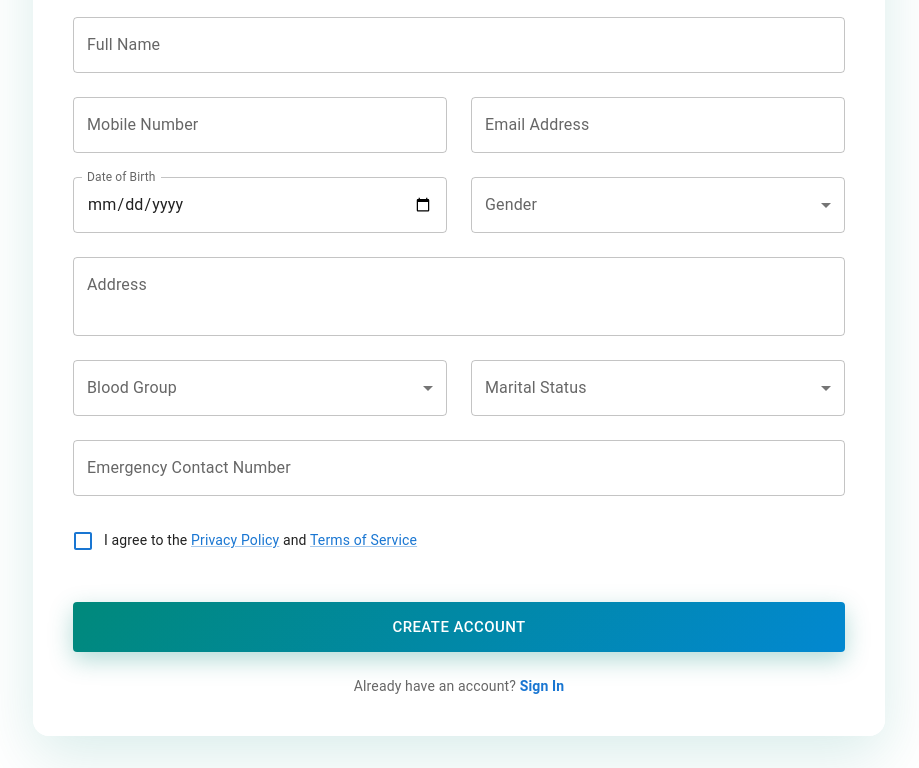
RegistrationScreen Component › Emergency Contact Validation › shows error for invalid emergency contact format
(page scrolled)
Step 1. Type "12345" into the field labelled "Emergency Contact Number" → (459, 468), box [73,440,845,496]
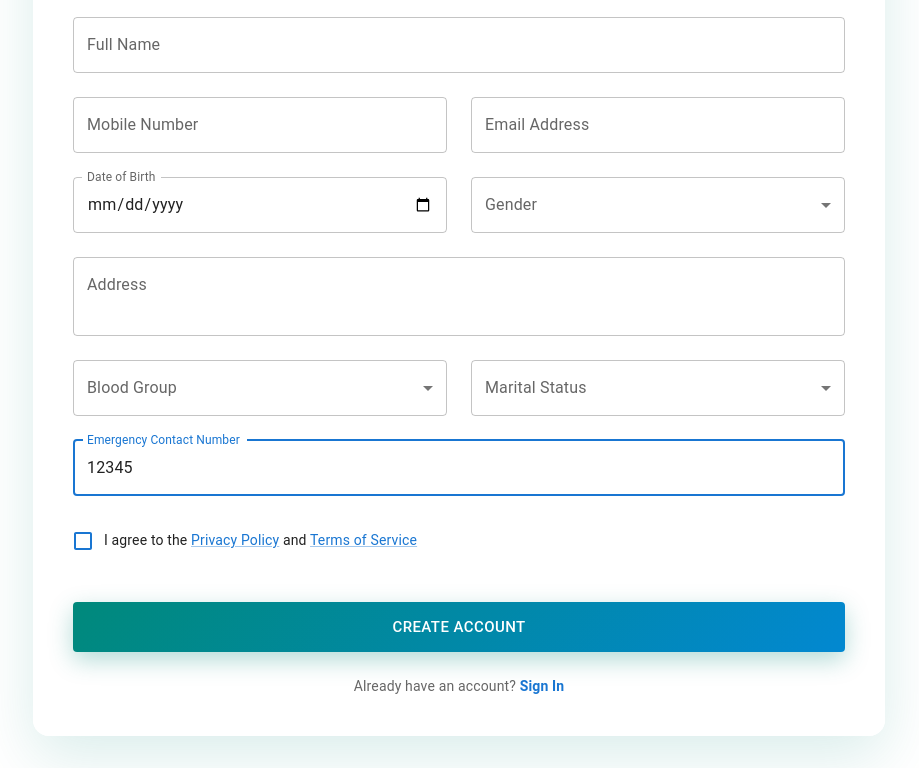
Step 2. Leave the field labelled "Emergency Contact Number", box [73,440,845,496]
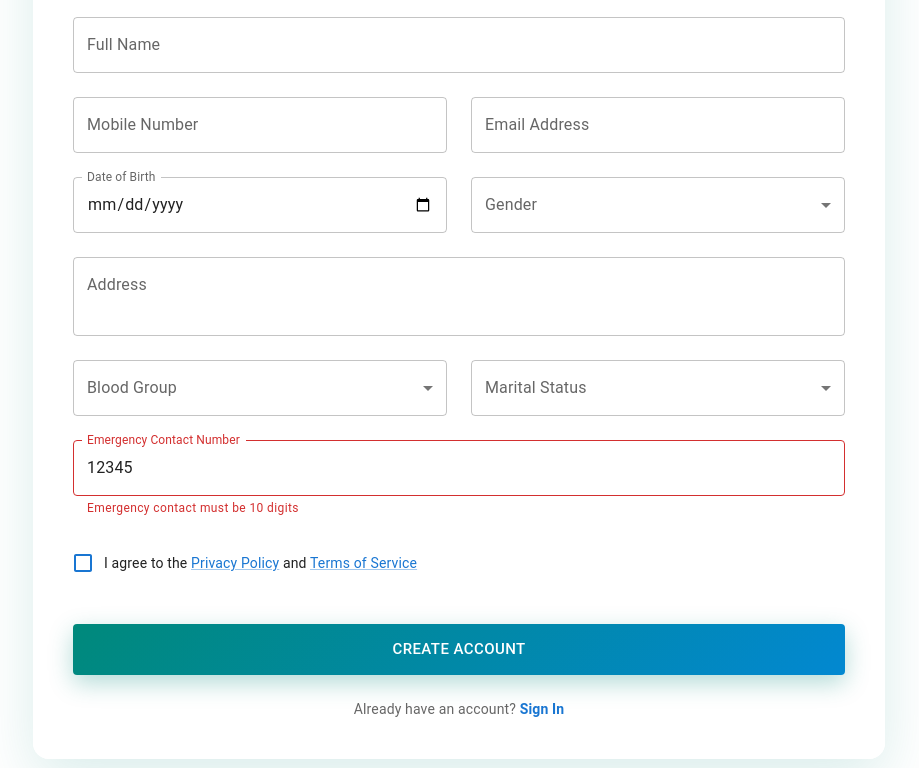
Check: the text "Emergency contact must be 10 digits" is shown, box [87,500,299,514]
